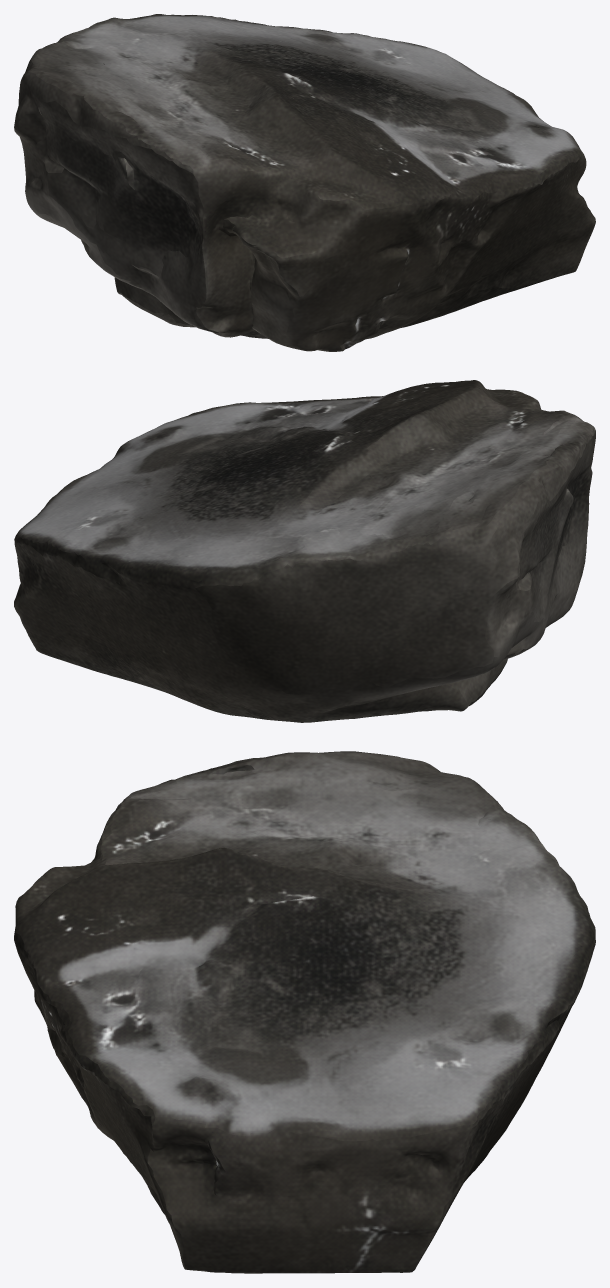
3 views of the same model, one above another, from view 1: azimuth 30°, elevation 25°; view 2: azimuth 150°, elevation 25°; view 3: azimuth 270°, elevation 25° (orthographic). The views are drawn at different scales.
Parts seen in each view (by area): view 1: world; view 2: world; view 3: world.
Boxes of the visible parts, x1,y1,x2,y2 form: world: (14,14,595,351); world: (14,380,595,722); world: (14,751,595,1273).
Size of the model in its own units: 0.32 by 0.1577 by 0.2961.
Materials: 1 (1 with a texture image).
